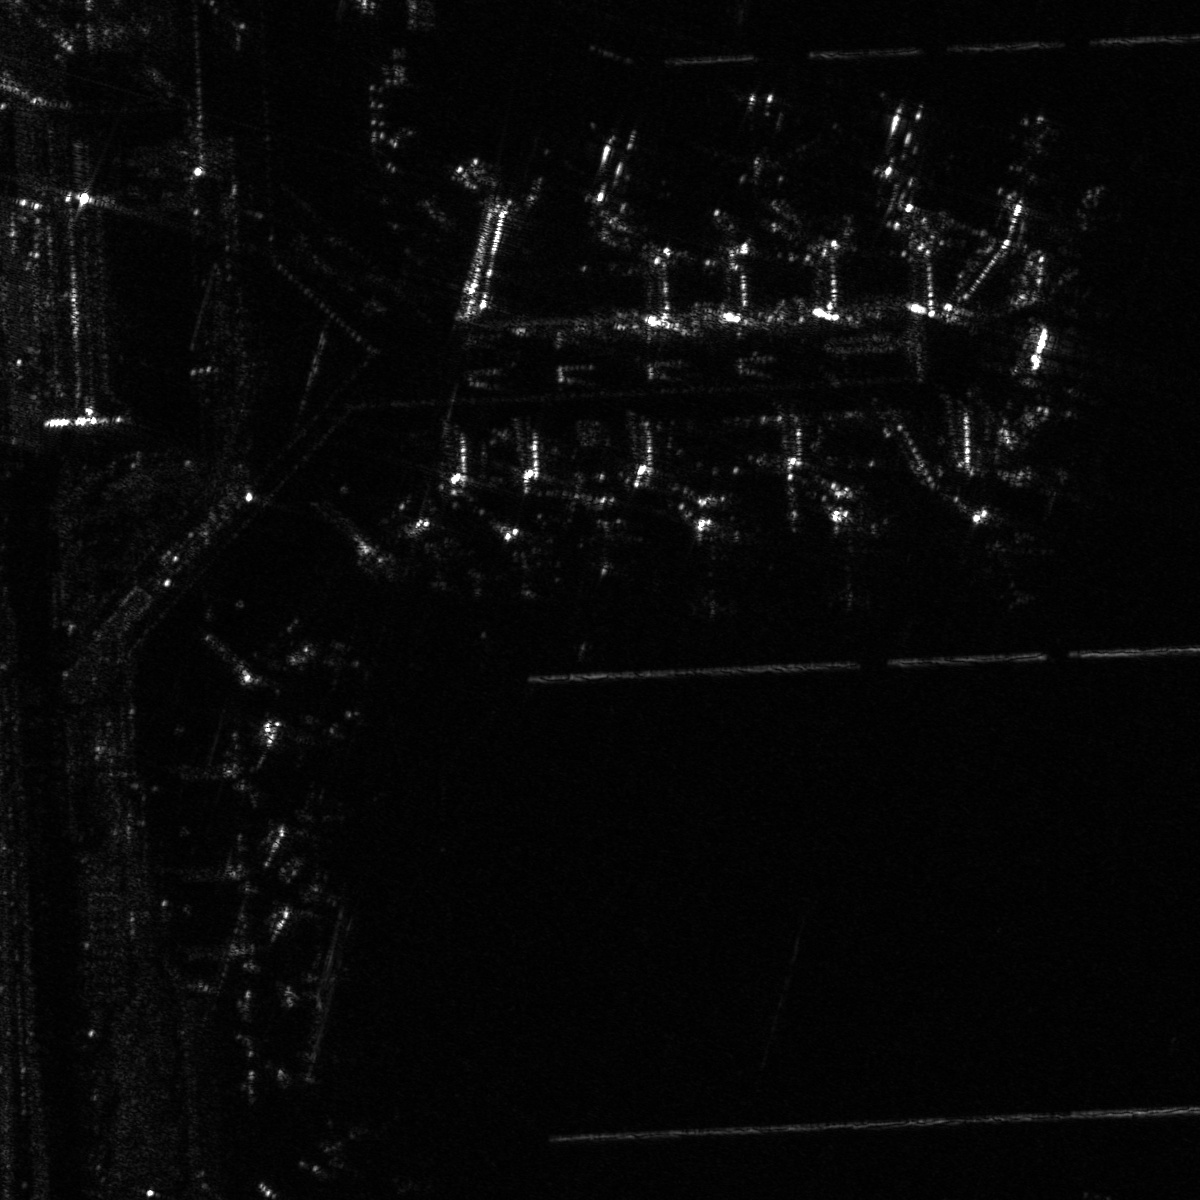A220: (573, 495, 645, 586), (295, 1113, 377, 1184)
A320/321: (834, 93, 960, 212)
Boeing737: (952, 502, 1066, 612)
Boeing787: (670, 497, 757, 626)
other: (692, 93, 819, 210), (793, 504, 905, 612)
